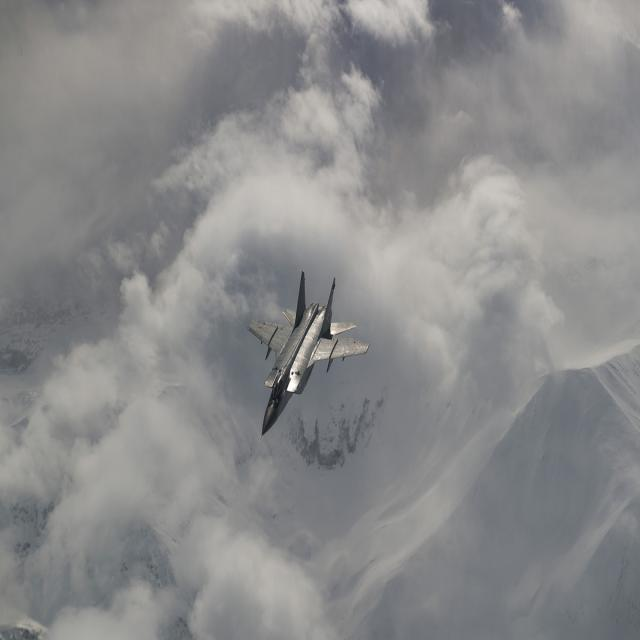MIL_Plane: (247, 270, 371, 444)
